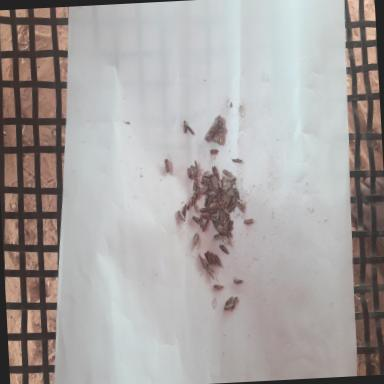pbw: (198, 210, 212, 222), (207, 188, 216, 206), (234, 196, 244, 212), (222, 223, 232, 239), (176, 208, 186, 223), (162, 158, 172, 173), (230, 296, 240, 310), (198, 253, 207, 268), (186, 123, 196, 136), (200, 219, 210, 232), (204, 248, 212, 264), (192, 174, 199, 192), (212, 162, 219, 180), (206, 266, 215, 280), (220, 168, 232, 178), (192, 232, 200, 246), (214, 253, 222, 267), (224, 196, 232, 210), (222, 212, 230, 226), (218, 243, 228, 254), (199, 206, 214, 213), (203, 192, 210, 207), (243, 218, 256, 226), (221, 190, 234, 198), (192, 215, 202, 225), (202, 180, 212, 190), (190, 164, 199, 175), (201, 169, 212, 178), (219, 209, 226, 223), (208, 201, 218, 210), (211, 232, 221, 241), (226, 174, 237, 182), (233, 276, 244, 284), (228, 201, 236, 212), (198, 172, 204, 186), (190, 192, 196, 206), (228, 183, 234, 197), (232, 186, 238, 200), (226, 220, 234, 230), (224, 301, 234, 309), (210, 194, 218, 204), (193, 159, 199, 172), (217, 178, 223, 190), (213, 282, 225, 288), (186, 198, 192, 210), (221, 234, 229, 243), (207, 262, 214, 272), (182, 119, 187, 133), (195, 184, 200, 198), (207, 208, 218, 214), (225, 296, 233, 304), (190, 172, 198, 180), (211, 252, 216, 264), (187, 166, 192, 178), (217, 191, 222, 203), (230, 157, 242, 162), (216, 207, 221, 219), (182, 204, 186, 218), (199, 216, 203, 228), (210, 148, 218, 154), (210, 213, 219, 218)
